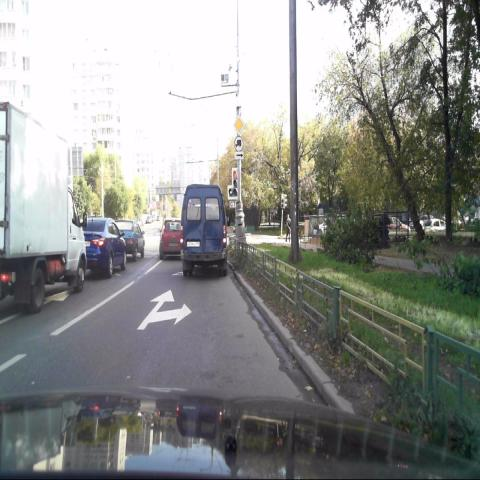2_1: (233, 115, 244, 136)
3_4_1: (234, 136, 243, 152)
